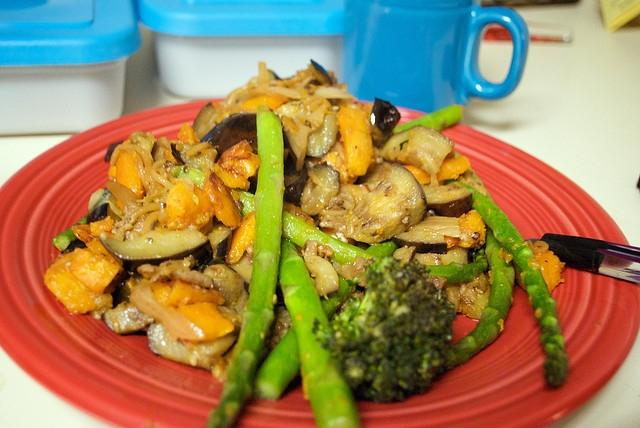asparagus: (444, 180, 570, 388), (207, 105, 285, 428), (254, 241, 397, 400), (172, 166, 376, 264), (278, 236, 360, 426), (445, 227, 515, 370), (390, 104, 462, 137), (52, 214, 90, 252)
broccoli: (330, 258, 457, 405)
eggplant: (344, 164, 428, 244), (148, 306, 242, 370), (97, 228, 213, 274), (200, 113, 290, 163), (378, 123, 456, 176), (394, 216, 461, 252), (300, 162, 340, 216), (422, 182, 472, 218), (369, 97, 401, 147), (306, 113, 338, 158), (192, 102, 218, 140), (88, 186, 111, 222), (431, 246, 471, 266), (306, 58, 334, 84)
